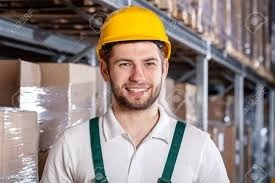helmet: (92, 5, 175, 62)
person with partial safety: (38, 5, 230, 182)
